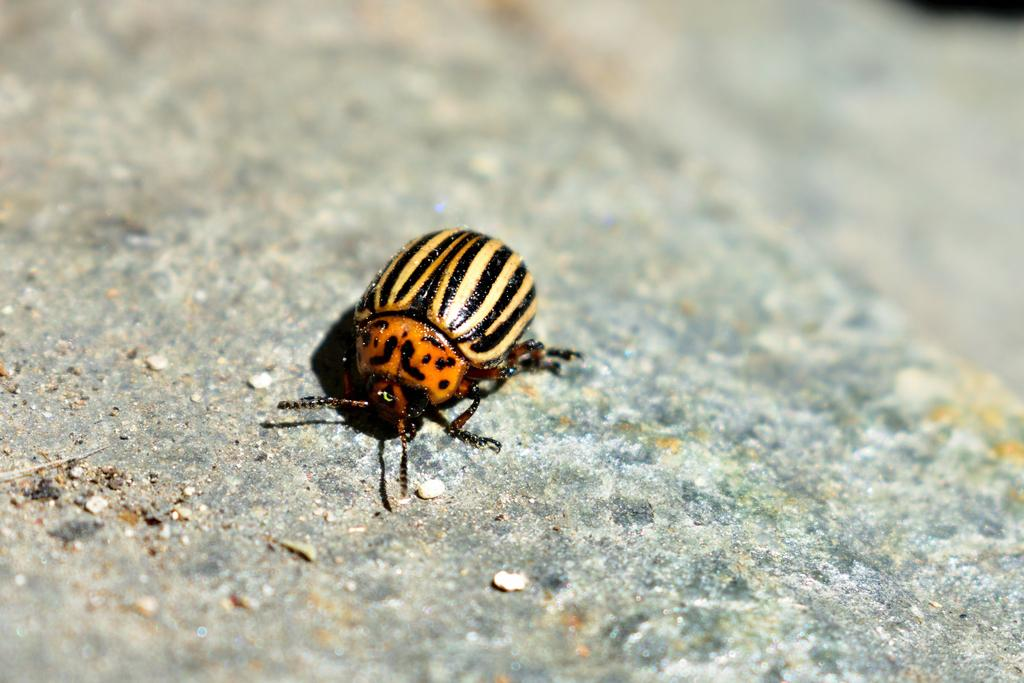potato_beetle: (232, 191, 615, 530)
